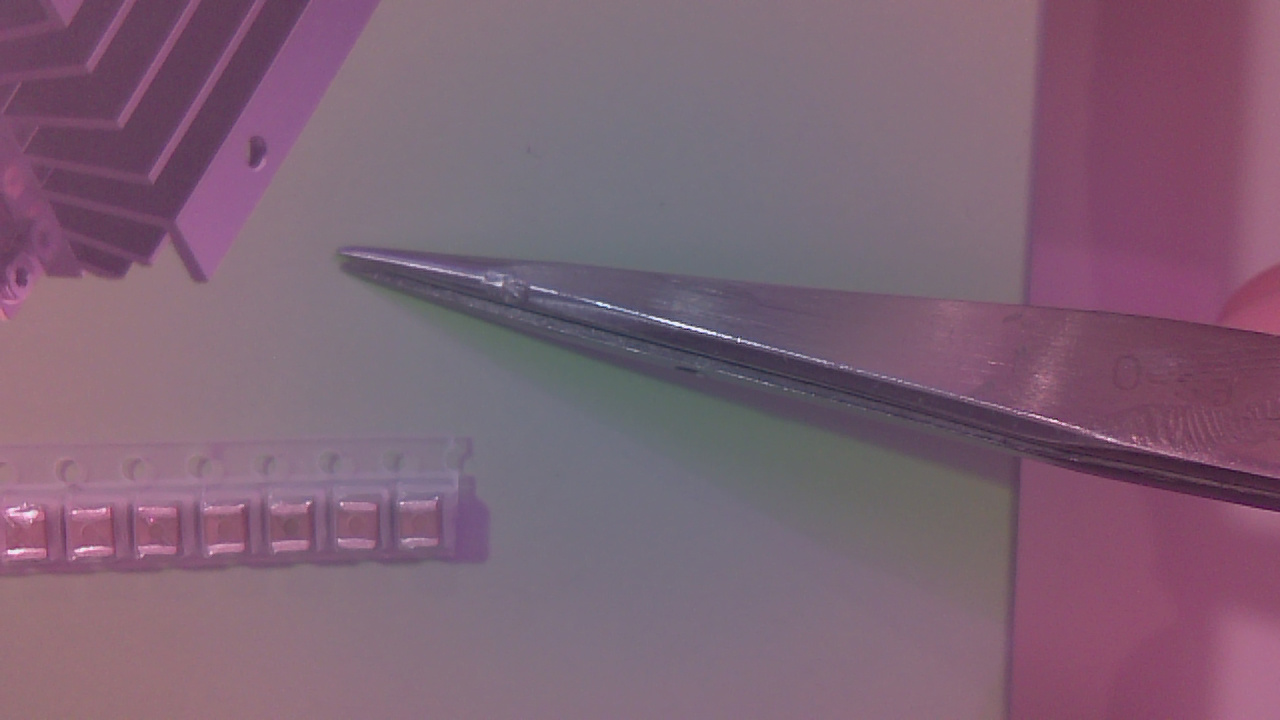Condensator: (11, 507, 55, 569), (74, 512, 123, 566), (402, 498, 447, 556), (273, 501, 318, 558), (140, 508, 188, 561), (208, 508, 255, 562), (340, 501, 386, 554)
